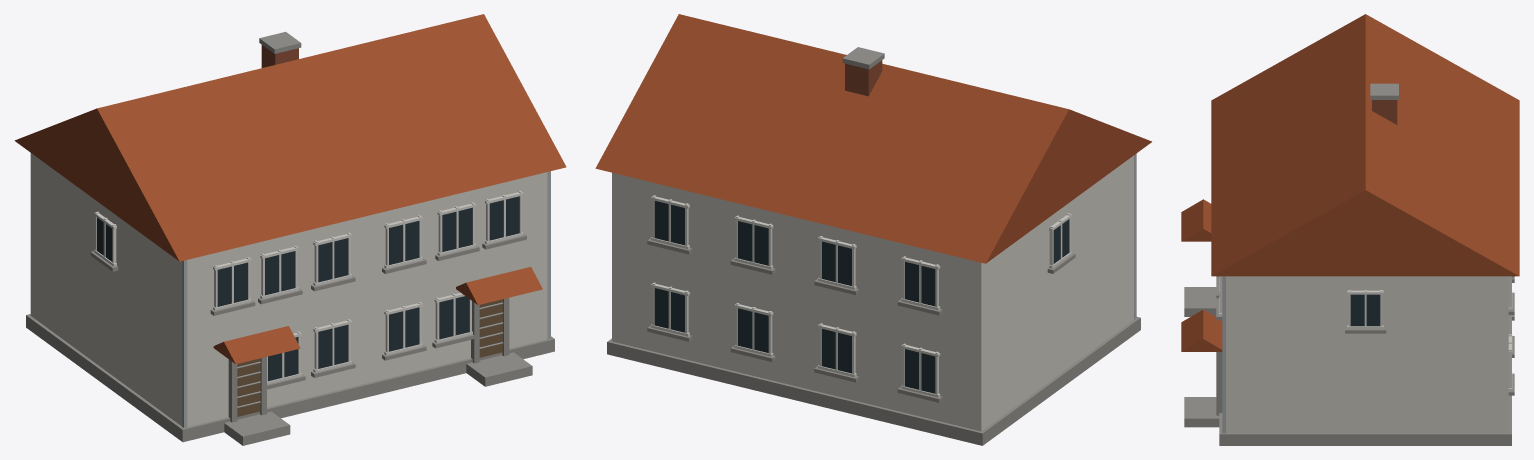
Rendered from Scenery_House_Semi.fbx.
3 renders of one model, left to right at view 1: azimuth 30°, elevation 25°; view 2: azimuth 150°, elevation 25°; view 3: azimuth 270°, elevation 25°, orthographic. The views are drawn at different scales.
Visible parts, largest first — view 1: Scenery_House_Semi_LOD0; view 2: Scenery_House_Semi_LOD0; view 3: Scenery_House_Semi_LOD0.
Boxes of the visible parts, box(x1,y1,x2,y2) form: Scenery_House_Semi_LOD0: box(14, 14, 566, 445); Scenery_House_Semi_LOD0: box(595, 14, 1151, 445); Scenery_House_Semi_LOD0: box(1181, 14, 1519, 445).
Size of what is drawn, in the model's own units: 13.1 by 9.43 by 10.65.
